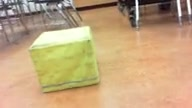cube: (28, 26, 100, 93)
